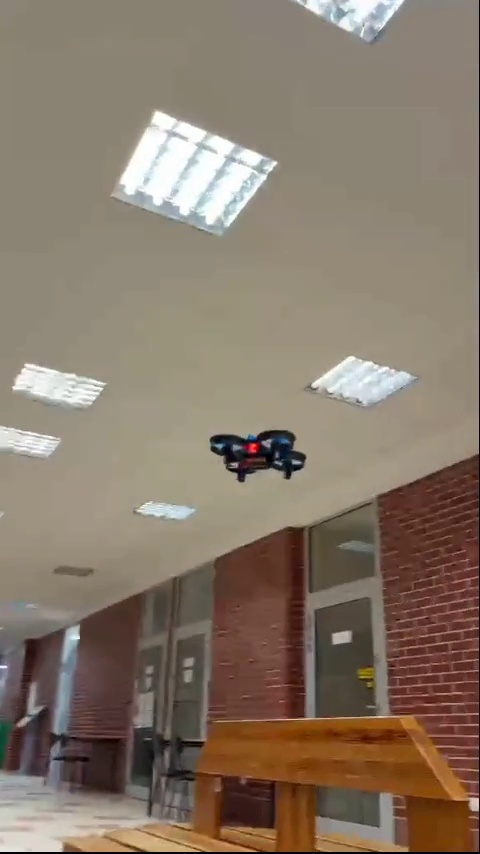drone: (207, 429, 315, 483)
